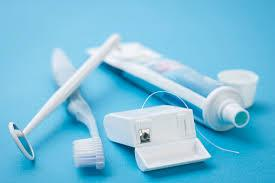toothpaste: (91, 34, 256, 130)
